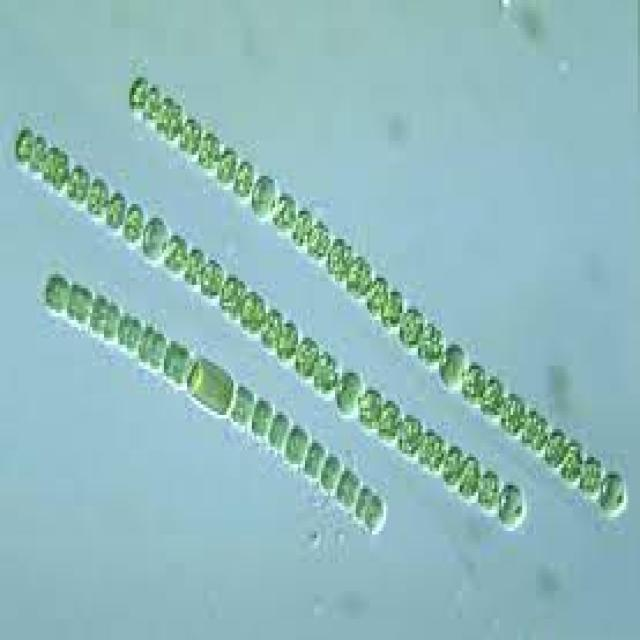Blue Green Algae: (434, 341, 467, 390), (130, 70, 160, 123), (162, 334, 192, 387), (332, 366, 362, 418), (328, 228, 354, 285), (314, 344, 340, 401), (138, 211, 168, 260), (420, 422, 446, 478), (497, 478, 524, 531), (499, 390, 527, 440), (416, 320, 446, 366), (596, 471, 626, 517), (159, 95, 185, 148), (381, 397, 407, 450), (358, 387, 384, 439), (250, 172, 277, 222), (44, 267, 69, 320), (522, 404, 548, 454), (90, 292, 113, 348), (115, 313, 141, 362), (582, 450, 603, 510), (42, 144, 69, 190), (546, 422, 568, 478), (215, 141, 240, 190), (347, 247, 372, 296), (141, 320, 166, 369), (222, 267, 245, 320), (164, 236, 190, 281), (308, 211, 330, 264), (273, 190, 300, 232), (462, 359, 485, 408), (400, 412, 423, 461), (67, 285, 92, 330), (122, 200, 144, 250), (462, 446, 481, 503), (240, 292, 264, 337), (180, 116, 203, 162), (321, 450, 344, 496), (365, 492, 388, 538), (400, 306, 425, 348), (481, 373, 504, 418), (201, 257, 224, 302), (199, 123, 217, 179), (338, 461, 360, 506), (478, 461, 497, 513), (562, 436, 582, 485), (264, 306, 284, 355), (233, 158, 254, 204), (85, 172, 106, 218), (231, 384, 254, 426), (444, 440, 462, 492), (293, 204, 312, 253), (367, 271, 386, 320), (286, 422, 305, 471), (184, 246, 206, 288), (296, 334, 316, 380), (252, 397, 272, 443), (307, 440, 326, 485), (67, 165, 88, 204), (381, 285, 402, 323), (351, 482, 372, 520), (30, 137, 51, 172), (16, 127, 35, 165), (106, 190, 125, 228), (280, 320, 298, 359), (270, 408, 286, 450)
